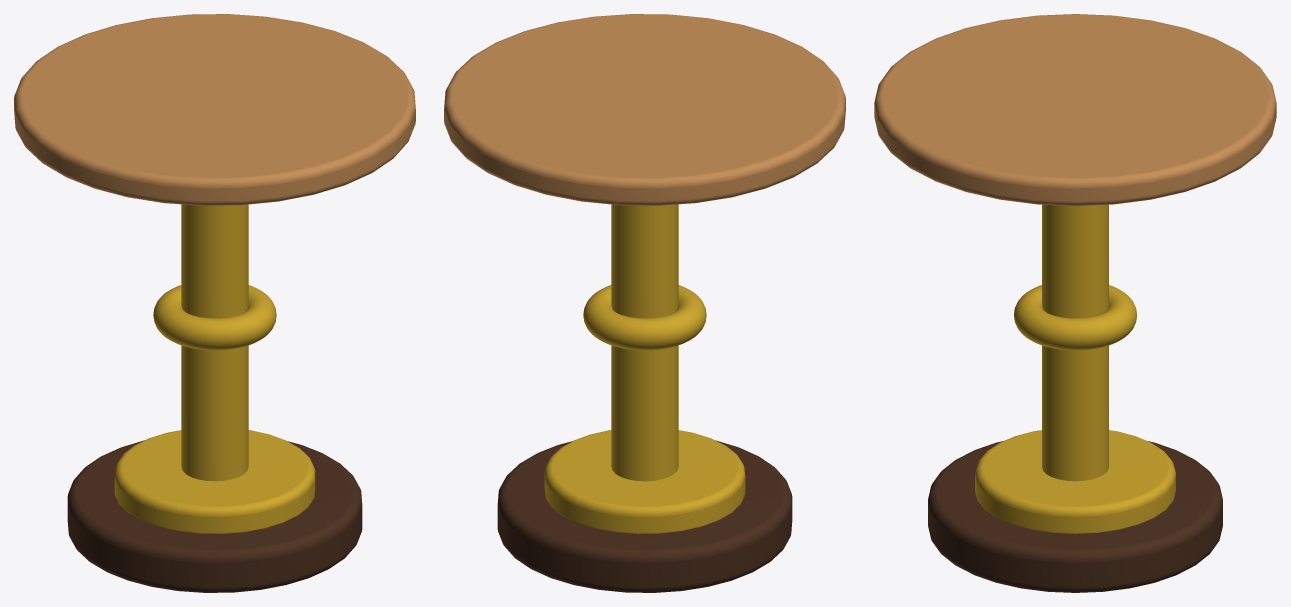
Rendered from lobby-side-table.glb.
The picture shows the model from 3 angles, left to right: view 1: azimuth 30°, elevation 25°; view 2: azimuth 150°, elevation 25°; view 3: azimuth 270°, elevation 25°; orthographic projection.
Visible parts, largest first — view 1: top, base, column, base.step, collar; view 2: top, base, column, base.step, collar; view 3: top, base, column, base.step, collar.
Boxes of the visible parts, left/top/right/bottom form: top: left=14, top=14, right=415, bottom=205; base: left=67, top=440, right=362, bottom=592; column: left=181, top=204, right=248, bottom=481; base.step: left=114, top=430, right=315, bottom=533; collar: left=153, top=285, right=276, bottom=350; top: left=444, top=14, right=845, bottom=205; base: left=497, top=440, right=792, bottom=592; column: left=611, top=204, right=678, bottom=481; base.step: left=544, top=430, right=745, bottom=533; collar: left=583, top=285, right=706, bottom=350; top: left=874, top=14, right=1276, bottom=205; base: left=928, top=441, right=1222, bottom=592; column: left=1042, top=204, right=1108, bottom=481; base.step: left=975, top=430, right=1175, bottom=533; collar: left=1014, top=285, right=1136, bottom=350.
Size of the model in its own units: 0.6 by 0.72 by 0.6.
